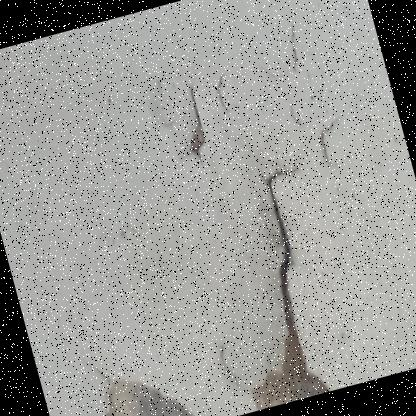Crack: (121, 3, 415, 415), (45, 317, 210, 415)
